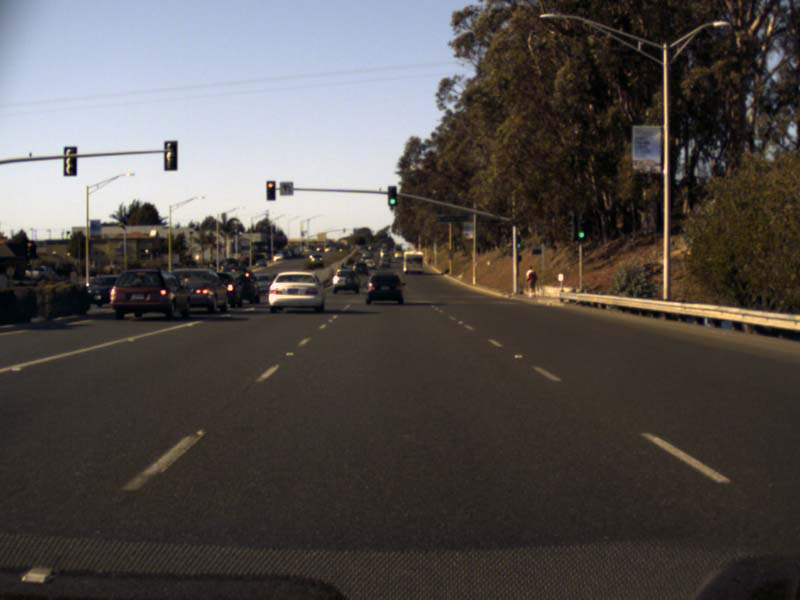Green: (387, 185, 396, 206), (576, 220, 585, 240), (515, 234, 520, 248)
Red: (265, 180, 275, 200)
